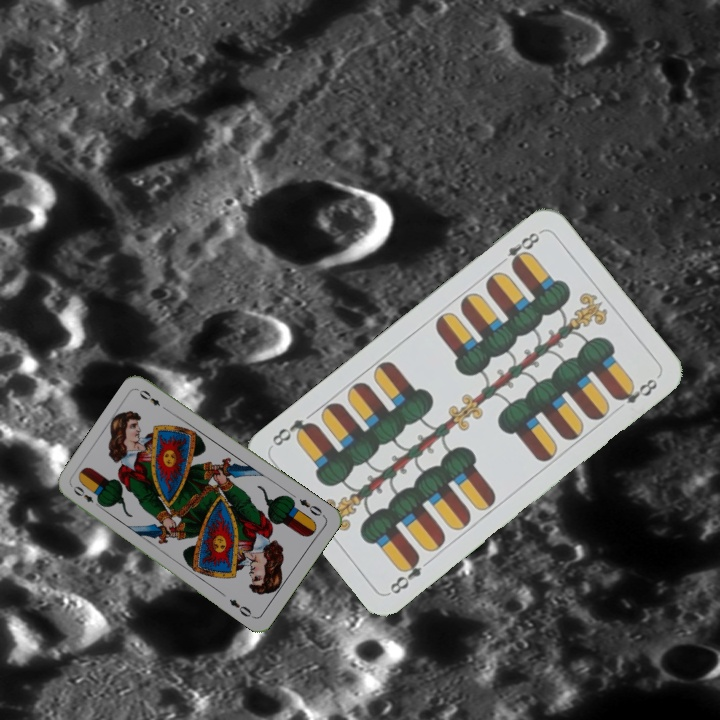E8: (494, 227, 544, 270), (385, 550, 425, 597)
EO: (69, 482, 104, 510), (295, 495, 325, 519)
